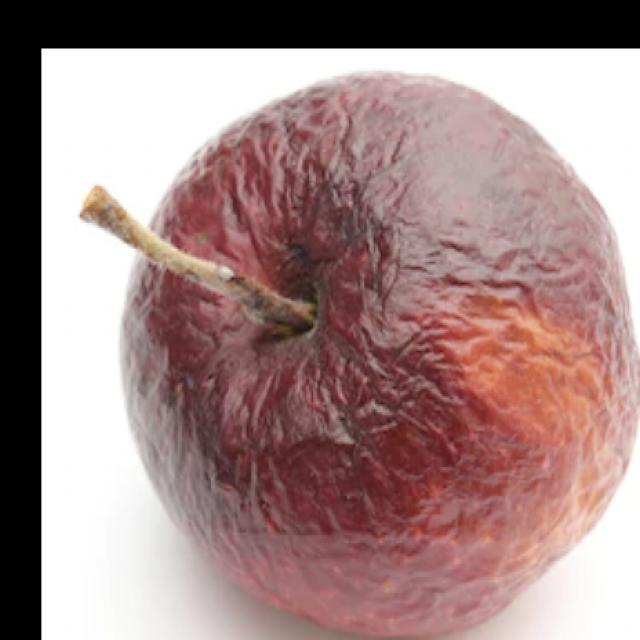Rotten: (136, 78, 639, 640)
